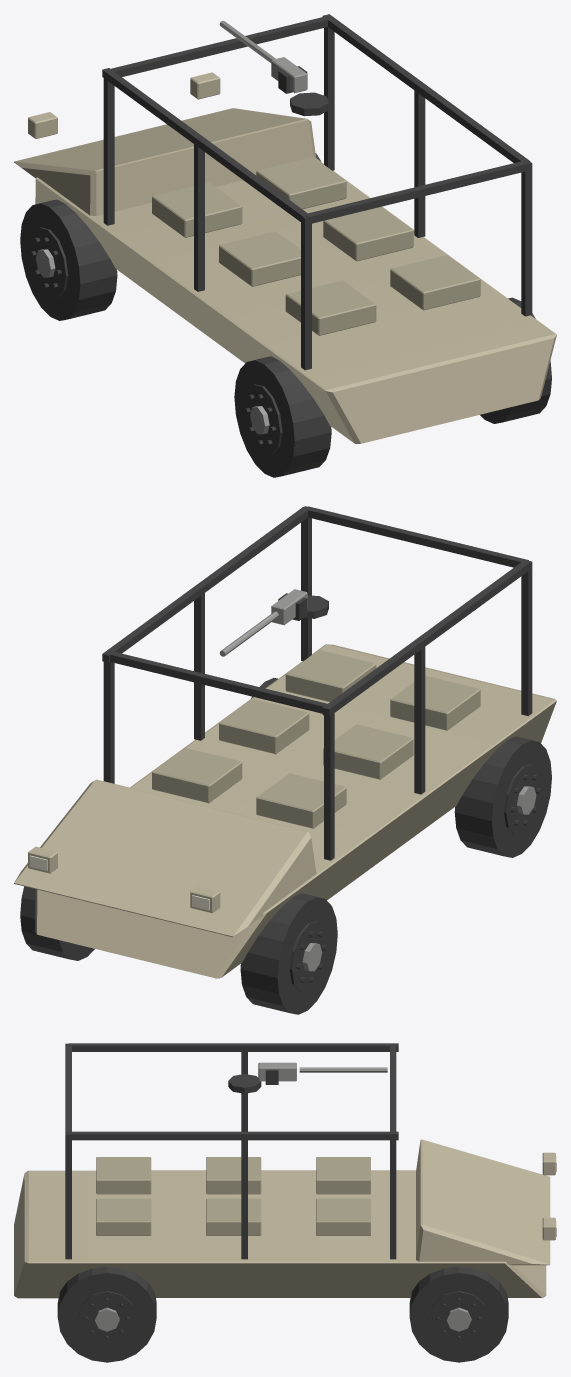
File: rus_lv_patriot.glb
The picture shows the model from 3 angles, top to bottom: view 1: azimuth 30°, elevation 25°; view 2: azimuth 150°, elevation 25°; view 3: azimuth 270°, elevation 25°; orthographic projection. The views are drawn at different scales.
Visible parts, largest first — view 1: body, wheel_0, wheel_2, barrel, wheel_3, turret; view 2: body, wheel_0, wheel_2, wheel_1, barrel; view 3: body, wheel_1, wheel_3, barrel, turret.
Part boxes in pixels (x1,y1,x2,y2): body: (14,14,556,443); wheel_0: (20,199,117,320); wheel_2: (234,356,331,477); barrel: (219,20,307,93); wheel_3: (480,297,551,423); turret: (290,92,328,116); body: (14,506,556,978); wheel_0: (240,893,337,1014); wheel_2: (454,736,551,857); wheel_1: (20,886,94,960); barrel: (219,589,307,656); body: (14,1043,556,1298); wheel_1: (409,1267,508,1362); wheel_3: (57,1267,156,1362); barrel: (258,1062,387,1084); turret: (228,1074,261,1093).
Size of the model in its own units: 2.34 by 2.47 by 4.94.
